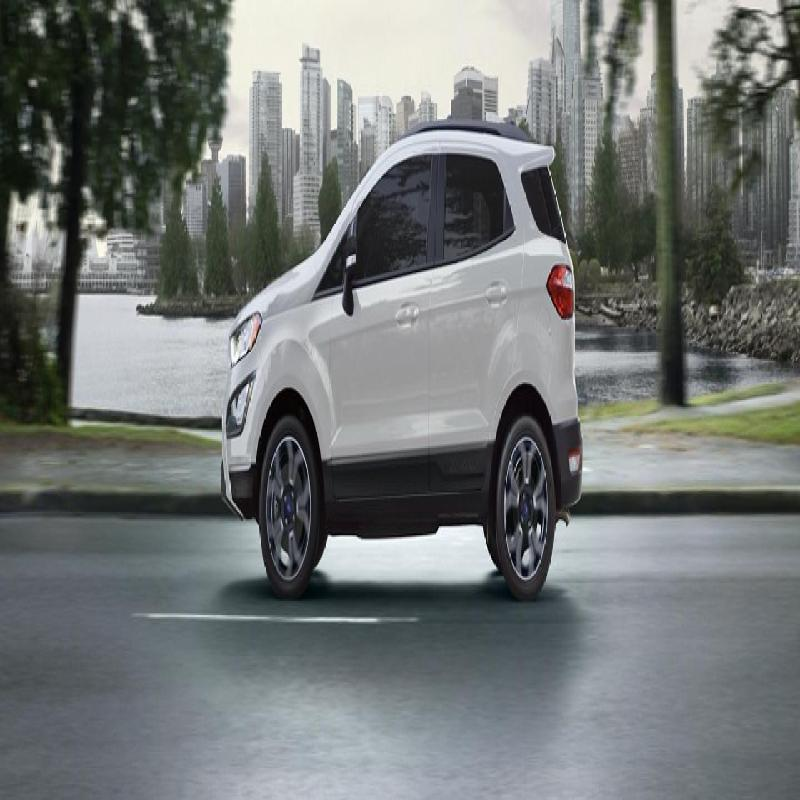car: (174, 119, 597, 599)
